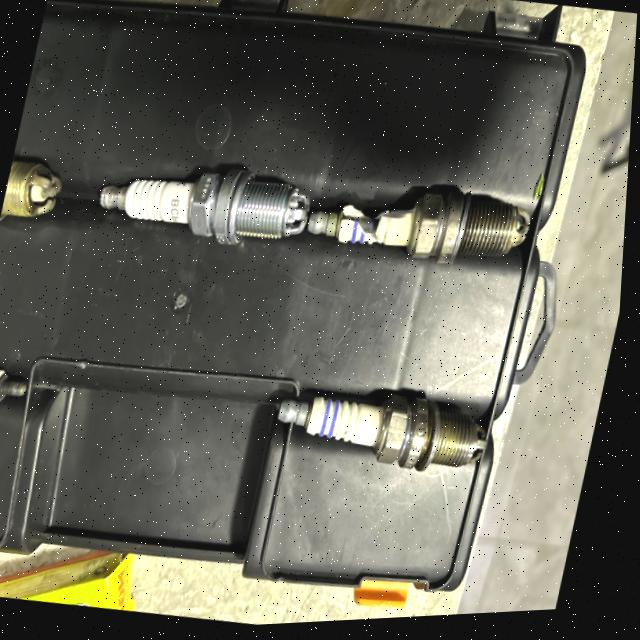damaged_spark-plug: (302, 170, 547, 287)
spark-plug: (263, 372, 515, 511), (85, 142, 321, 267)
